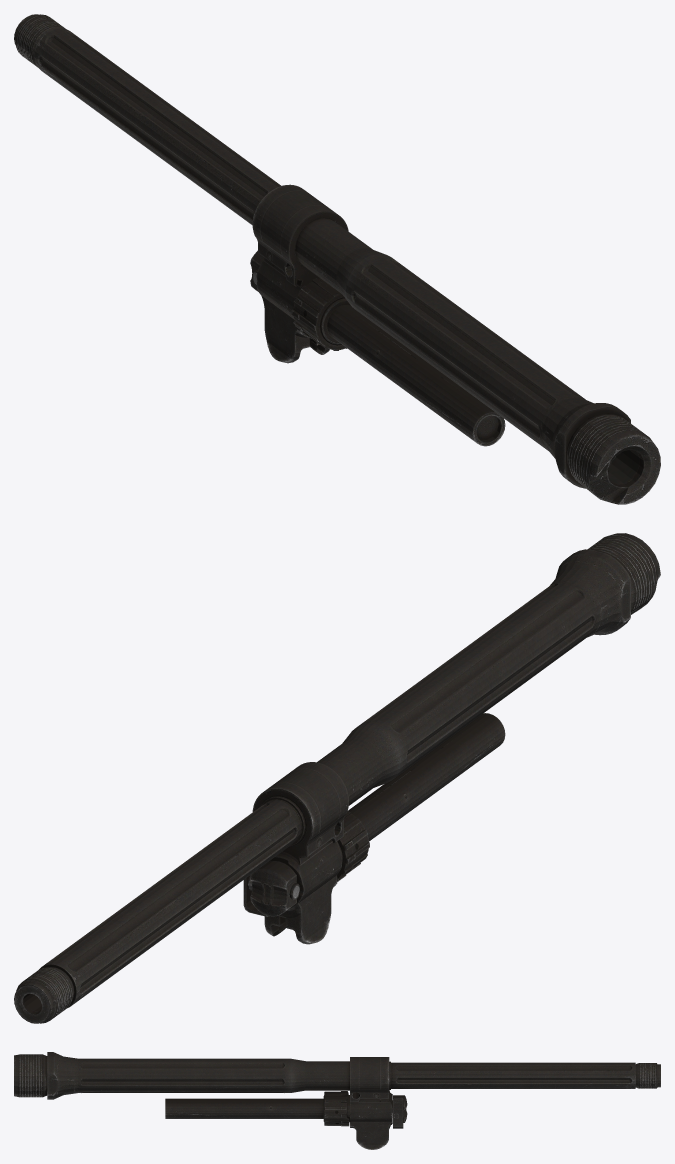
3 renders of one model, top to bottom at view 1: azimuth 30°, elevation 25°; view 2: azimuth 150°, elevation 25°; view 3: azimuth 270°, elevation 25°, orthographic. The views are drawn at different scales.
Parts seen in each view (by area): view 1: TW_5b7be1125acfc4001876c0e5_PZ_Import; view 2: TW_5b7be1125acfc4001876c0e5_PZ_Import; view 3: TW_5b7be1125acfc4001876c0e5_PZ_Import.
Boxes of the visible parts, left/top/right/bottom form: TW_5b7be1125acfc4001876c0e5_PZ_Import: left=14, top=14, right=660, bottom=504; TW_5b7be1125acfc4001876c0e5_PZ_Import: left=14, top=533, right=660, bottom=1023; TW_5b7be1125acfc4001876c0e5_PZ_Import: left=14, top=1052, right=660, bottom=1149.
Bounding box in the file's own units: 0.0156 × 0.2371 × 0.0366.
1 material, 1 textured.
